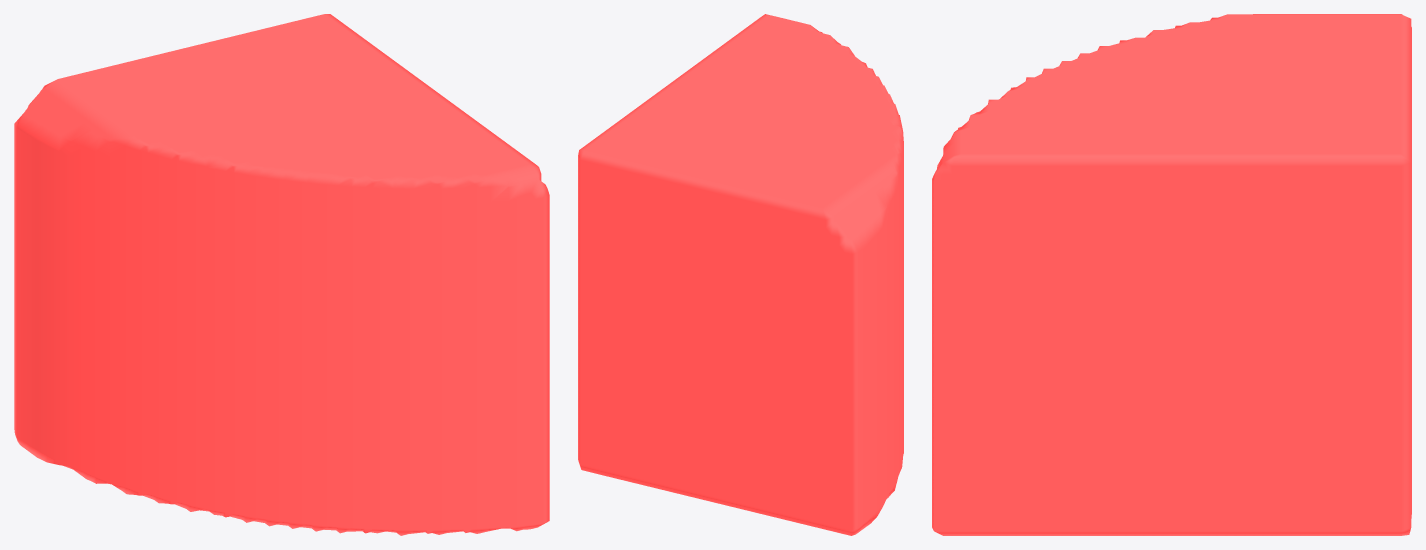
The model's file is taillight_right.glb.
3 renders of one model, left to right at view 1: azimuth 30°, elevation 25°; view 2: azimuth 150°, elevation 25°; view 3: azimuth 270°, elevation 25°, orthographic. The views are drawn at different scales.
Parts seen in each view (by area): view 1: taillight_right; view 2: taillight_right; view 3: taillight_right.
Part boxes in pixels (x1=…): taillight_right: x1=14, y1=14, x2=549, y2=535; taillight_right: x1=578, y1=14, x2=903, y2=535; taillight_right: x1=932, y1=14, x2=1411, y2=535.
Size of the model in its own units: 2.31 by 2.5 by 2.84.
